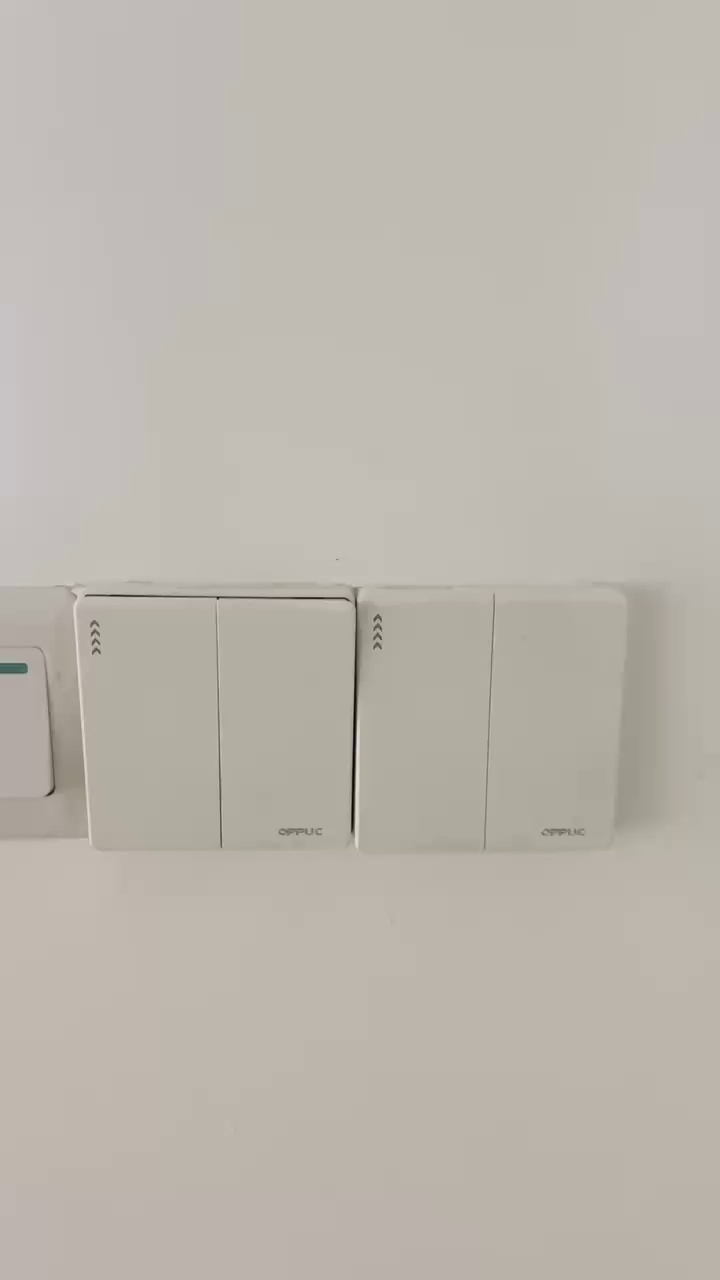button1: (223, 599, 348, 849), (360, 594, 483, 847), (493, 596, 615, 849), (89, 601, 214, 847)
